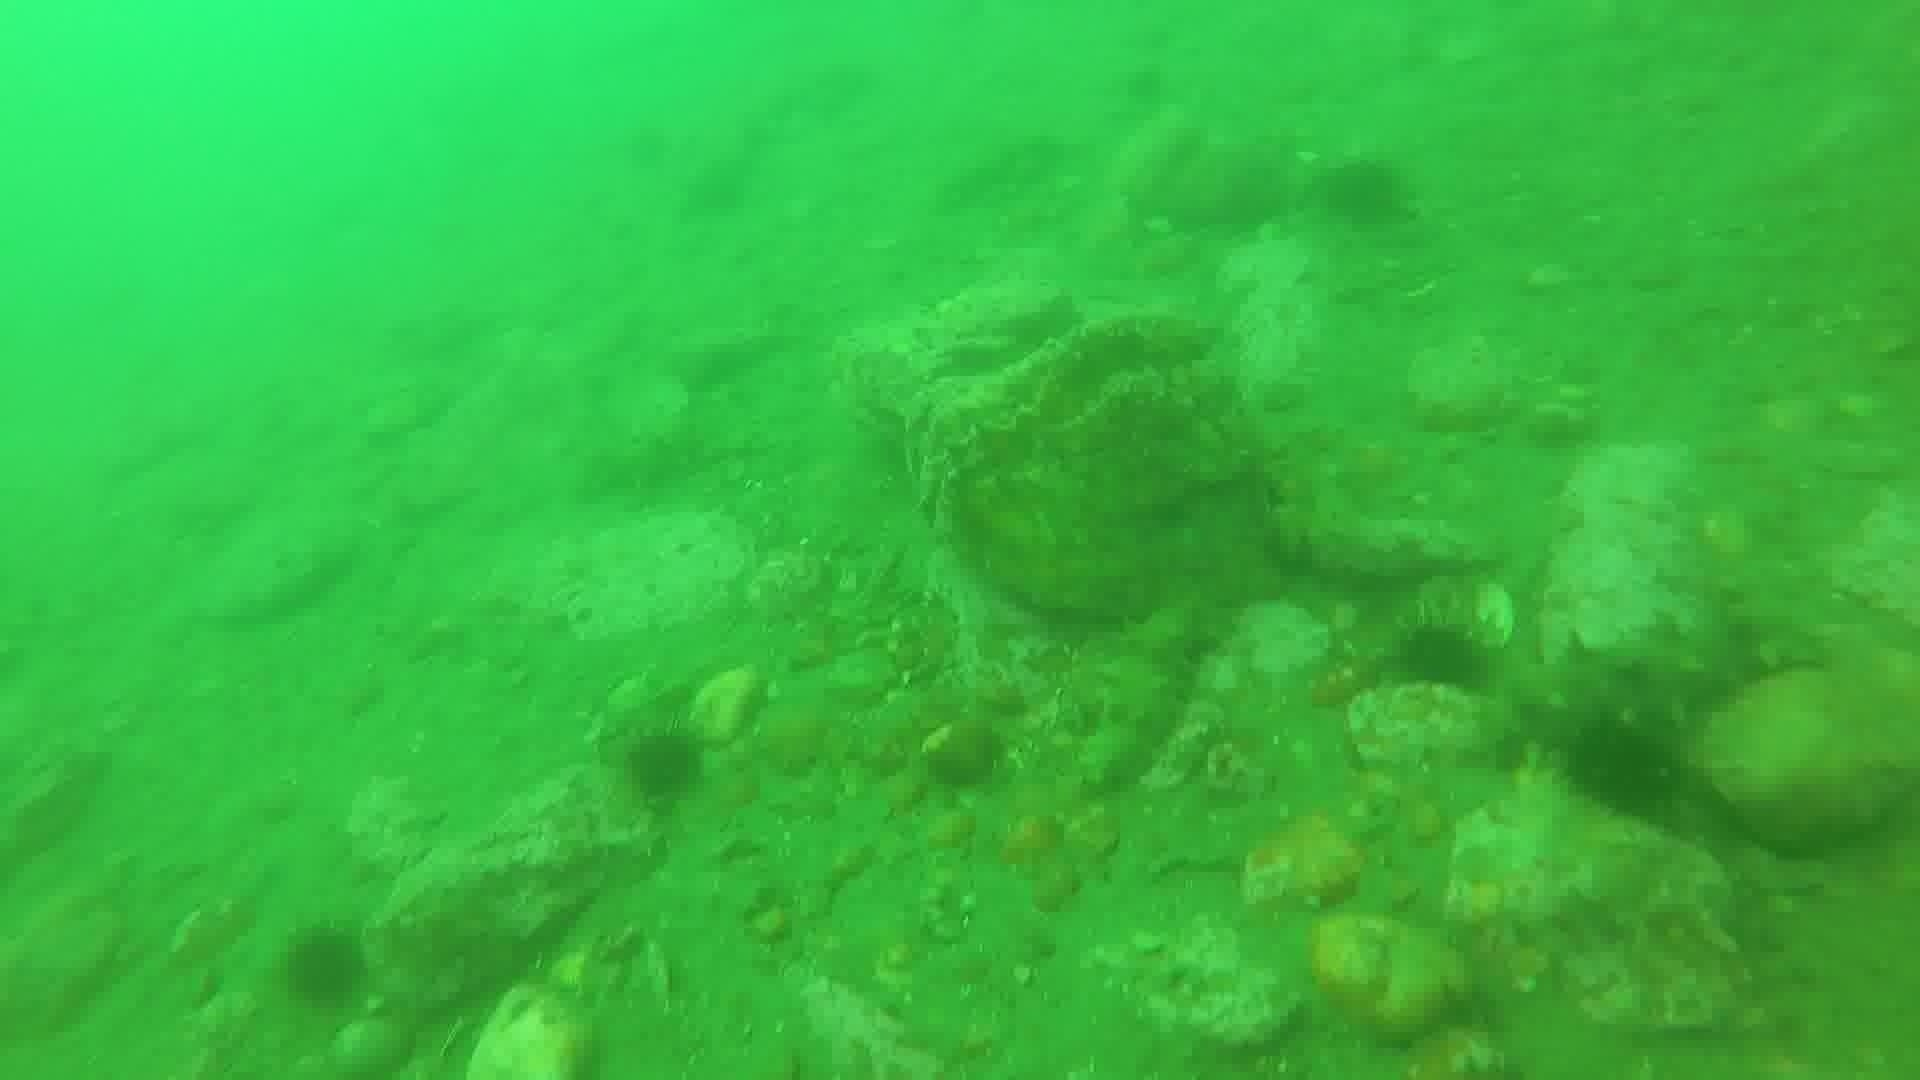echinus: (1557, 712, 1691, 825), (1389, 617, 1491, 702), (278, 922, 372, 1013), (1315, 153, 1415, 233), (618, 724, 708, 807)
holothurian: (1470, 597, 1828, 758), (1072, 599, 1212, 796), (574, 411, 735, 506)
